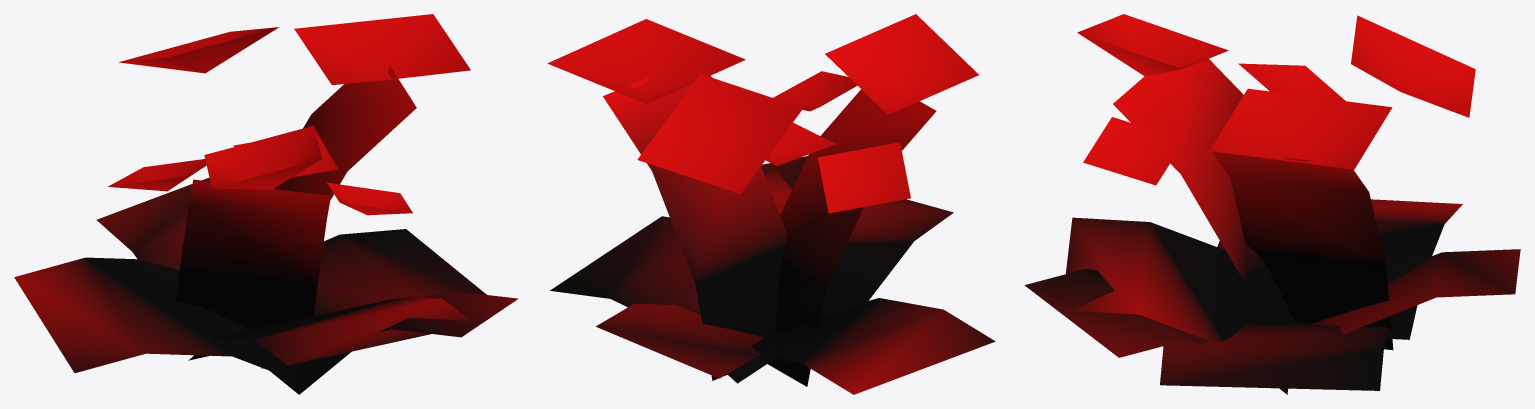
Rendered from flower_yellow_2.fbx.
3 renders of one model, left to right at view 1: azimuth 30°, elevation 25°; view 2: azimuth 150°, elevation 25°; view 3: azimuth 270°, elevation 25°, orthographic. The views are drawn at different scales.
Visible parts, largest first — view 1: flower_yellow_2; view 2: flower_yellow_2; view 3: flower_yellow_2.
Part boxes in pixels (bbox=[...]): flower_yellow_2: bbox=[14, 14, 518, 394]; flower_yellow_2: bbox=[547, 14, 995, 394]; flower_yellow_2: bbox=[1024, 14, 1520, 394].
Bounding box in the file's own units: 2.16 × 1.55 × 2.18.
